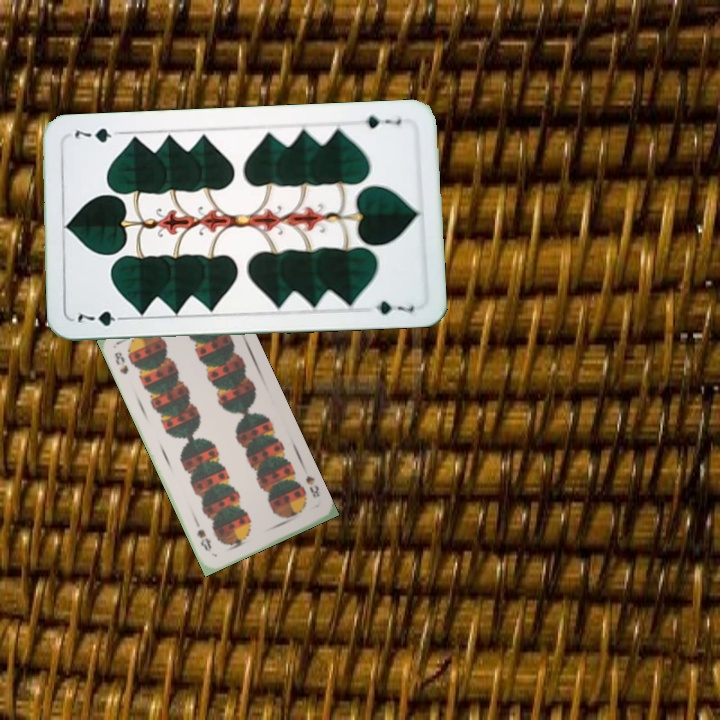G7: (73, 306, 131, 329), (353, 112, 403, 131)
S8: (301, 471, 322, 501), (110, 348, 131, 377)
